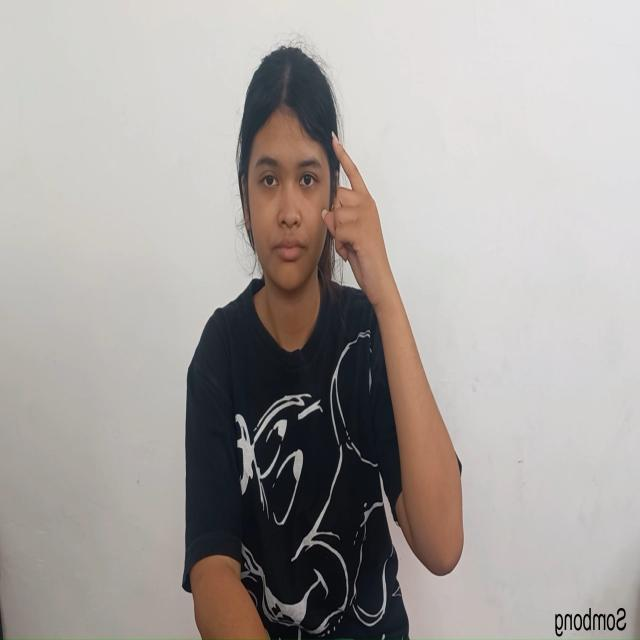Sombong -BISINDO-: (321, 117, 468, 583)
